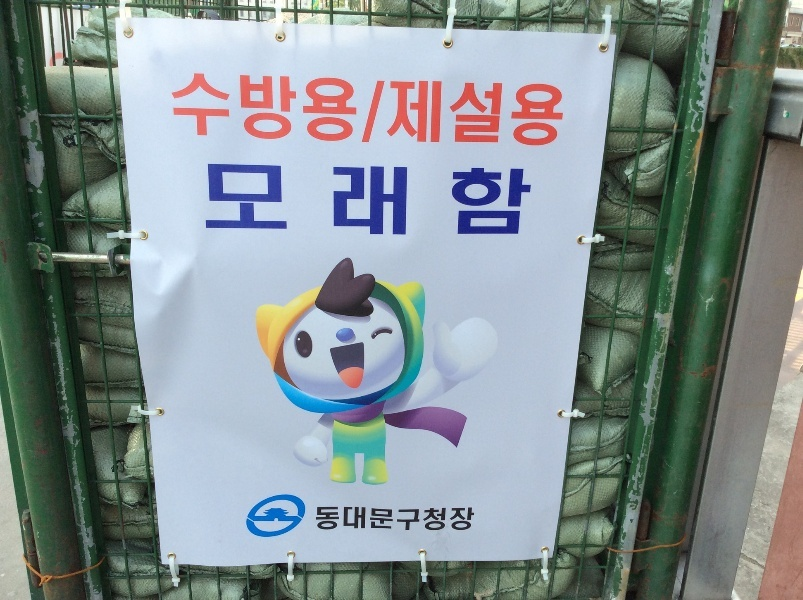text: (209, 160, 224, 240), (225, 160, 240, 240), (241, 160, 256, 240), (257, 160, 272, 240), (273, 160, 288, 240), (289, 160, 304, 240), (305, 160, 320, 240), (321, 160, 336, 240), (337, 160, 352, 240), (353, 160, 368, 240), (369, 160, 384, 240), (385, 160, 400, 240), (401, 160, 416, 240), (417, 160, 432, 240), (433, 160, 448, 240), (449, 160, 464, 240), (465, 160, 480, 240), (481, 160, 496, 240), (497, 160, 512, 240), (513, 160, 528, 240), (177, 71, 192, 150), (193, 71, 208, 150), (209, 71, 224, 150), (225, 71, 240, 150), (241, 71, 256, 150), (257, 71, 272, 150), (273, 71, 288, 150), (289, 71, 304, 150), (305, 71, 320, 150), (321, 71, 336, 150), (337, 71, 352, 150), (353, 71, 368, 150), (369, 71, 384, 150), (385, 71, 400, 150), (401, 71, 416, 150), (417, 71, 432, 150), (433, 71, 448, 150), (449, 71, 464, 150), (465, 71, 480, 150), (481, 71, 496, 150), (497, 71, 512, 150), (513, 71, 528, 150), (529, 71, 544, 150), (545, 71, 560, 150), (529, 160, 535, 240), (321, 506, 336, 534), (337, 506, 352, 534), (353, 506, 368, 534), (369, 506, 384, 534), (385, 506, 400, 534), (401, 506, 416, 534), (417, 506, 432, 534), (433, 506, 448, 534), (449, 506, 464, 534), (172, 71, 176, 150), (465, 506, 476, 534), (561, 71, 564, 150), (315, 506, 320, 534), (207, 160, 208, 240)
